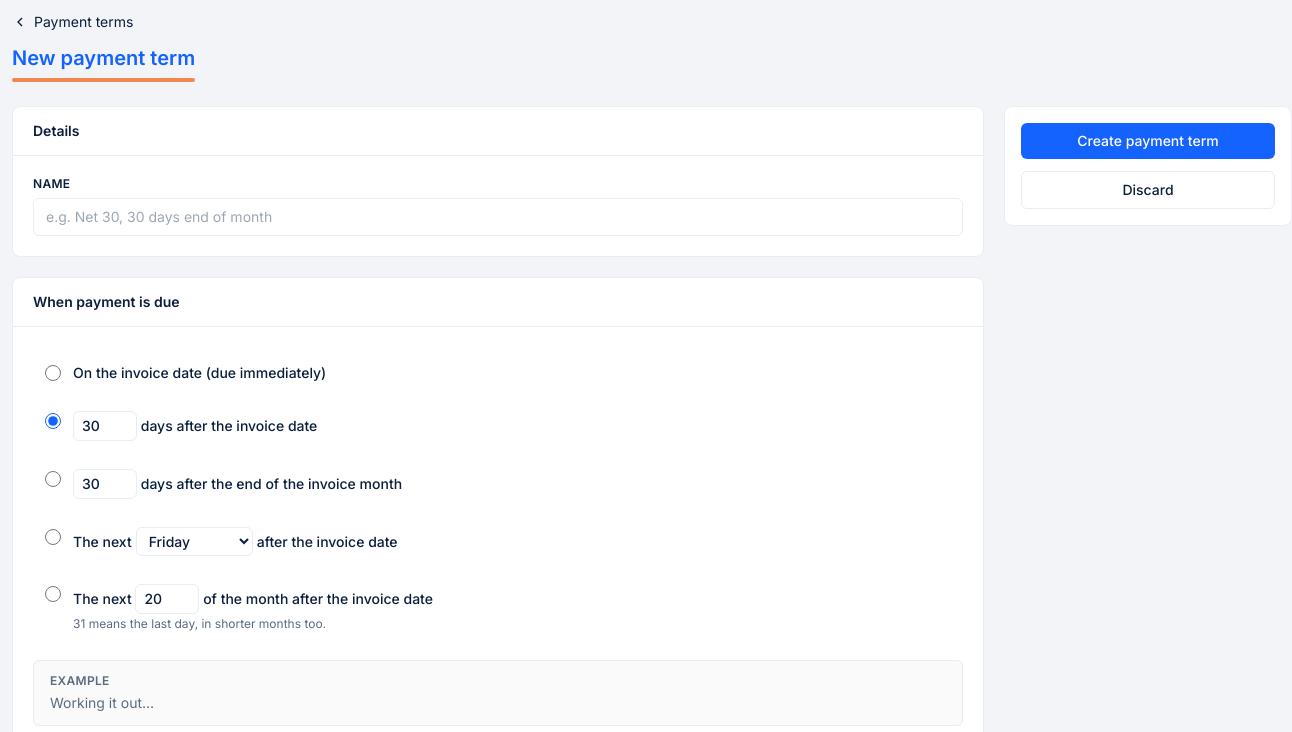
Test case: PaymentTermForm › requires a name
The width and height of the screenshot is (1292, 732).
Click the button "Create payment term": (1148, 141) [1021,123,1275,159]
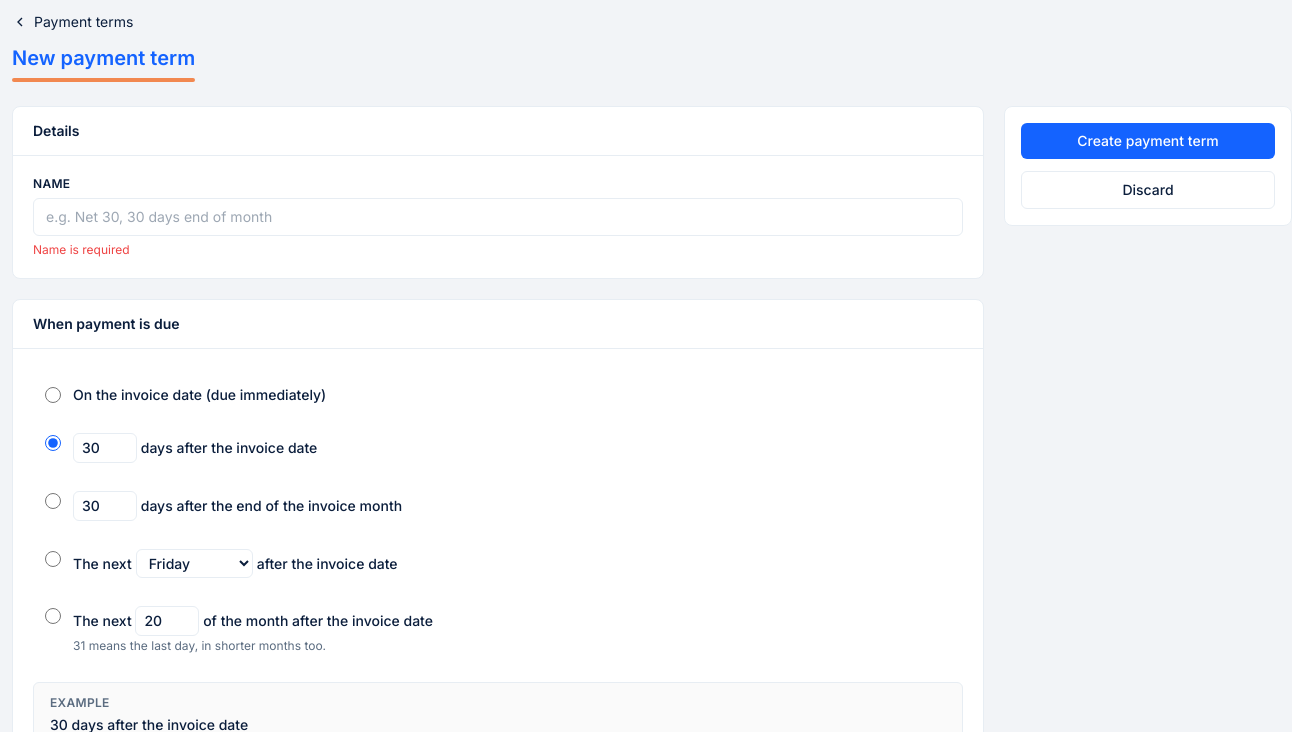
expect the text "Name is required" is shown: met, box [33,242,130,257]
